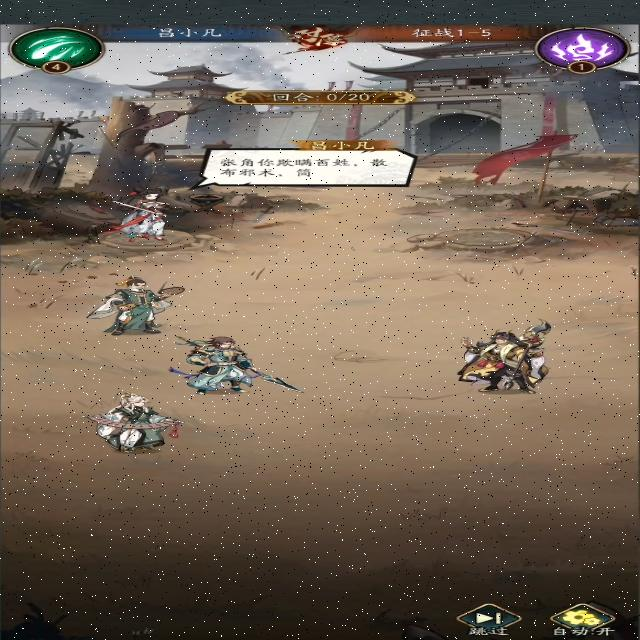system-auto: (545, 602, 621, 638)
system-skip: (452, 601, 526, 637)
